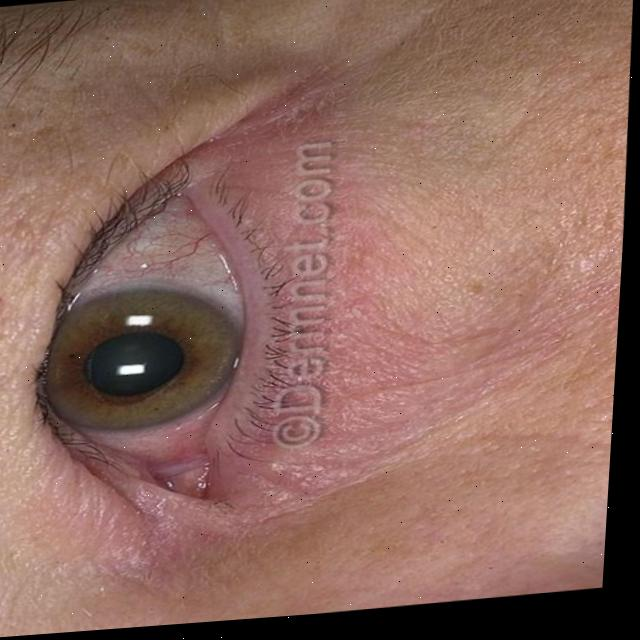Eczema: (206, 105, 473, 506)
